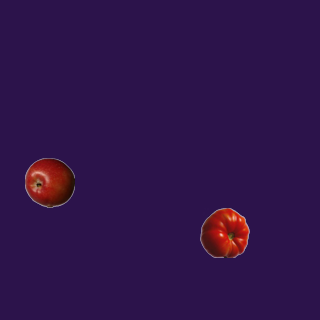Apple Braeburn: (24, 157, 74, 207)
Tomato 3: (199, 207, 249, 257)
